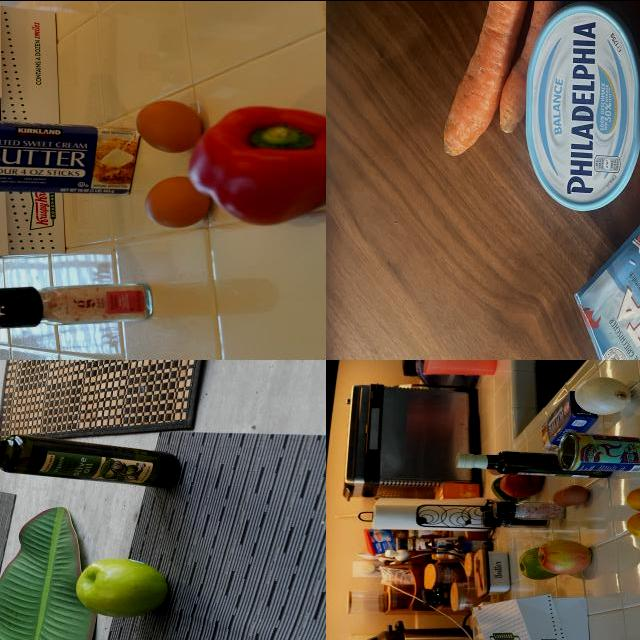bell_pepper: (195, 102, 327, 240), (70, 546, 176, 628), (482, 512, 551, 528), (500, 471, 542, 497), (493, 478, 523, 500)
carrot: (431, 1, 594, 165)
egg: (133, 96, 206, 156), (141, 176, 213, 230), (564, 484, 592, 506), (555, 489, 580, 509)
onion: (575, 376, 635, 414)
